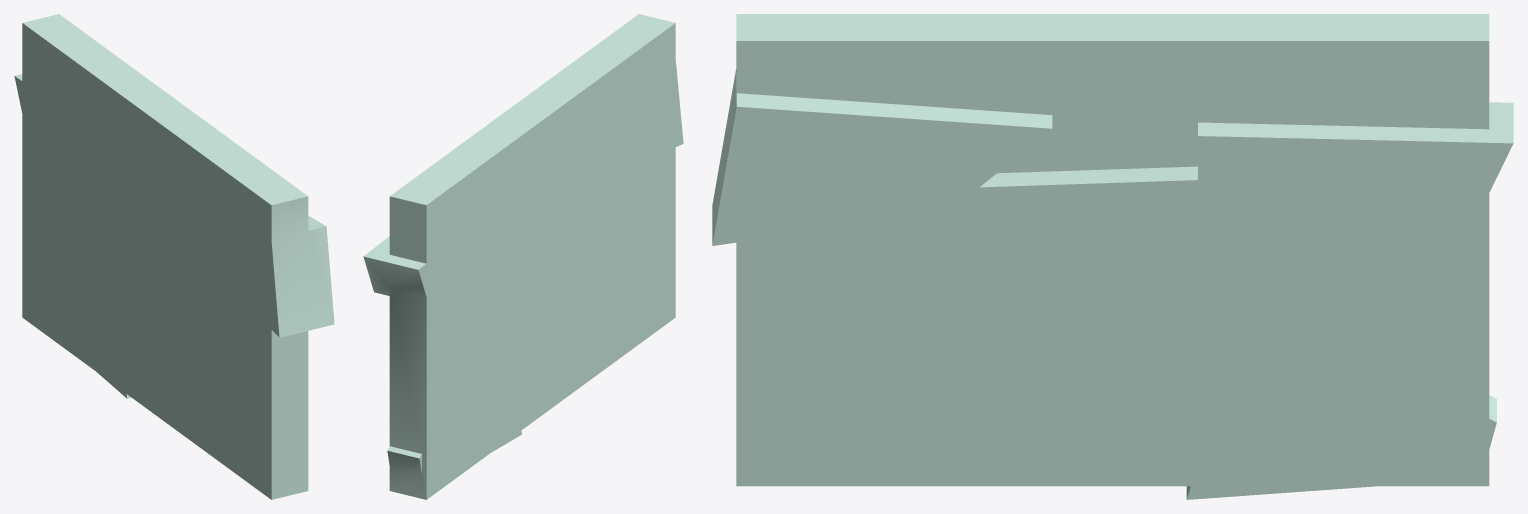
3 renders of one model, left to right at view 1: azimuth 30°, elevation 25°; view 2: azimuth 150°, elevation 25°; view 3: azimuth 270°, elevation 25°, orthographic. The views are drawn at different scales.
Visible parts, largest first — view 1: Renderer Node; view 2: Renderer Node; view 3: Renderer Node.
Part boxes in pixels (box(x1,y1,x2,y2)): Renderer Node: box(14, 14, 334, 499); Renderer Node: box(363, 14, 683, 499); Renderer Node: box(712, 14, 1513, 499).
Size of the model in its own units: 0.0938 by 0.4939 by 0.7816.
